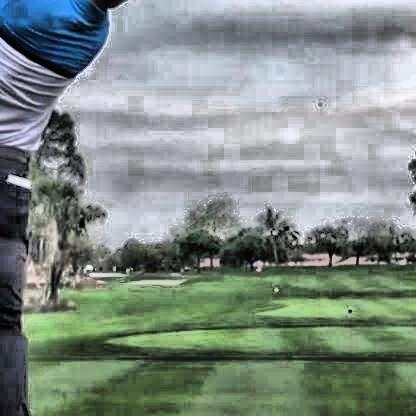golfball: (315, 98, 319, 105)
